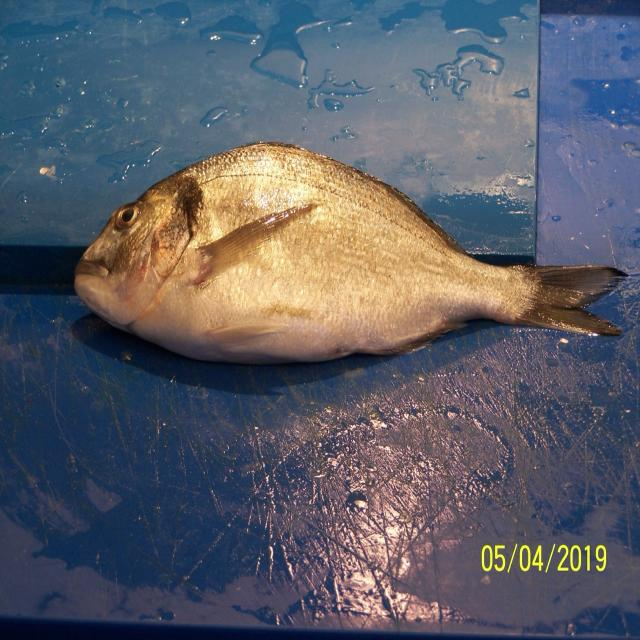Gilt-Head-Bream-c-ipura-: (72, 142, 626, 367)
